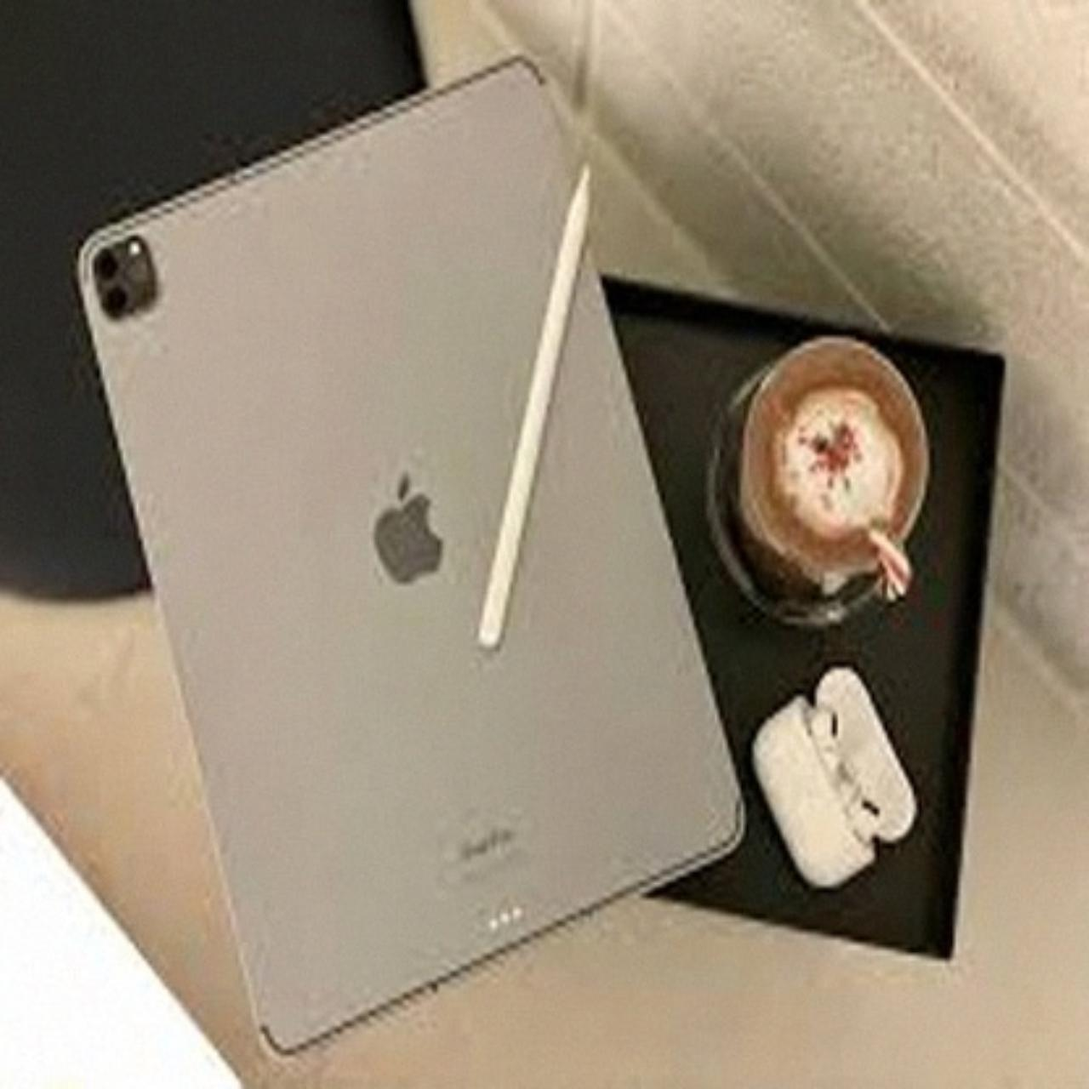Tablet_PC: (50, 31, 767, 1078)
